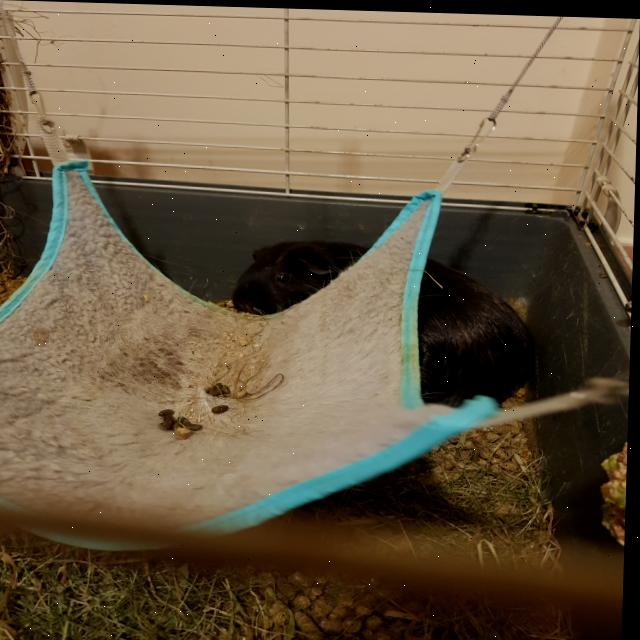guinea pig: (227, 236, 544, 403)
